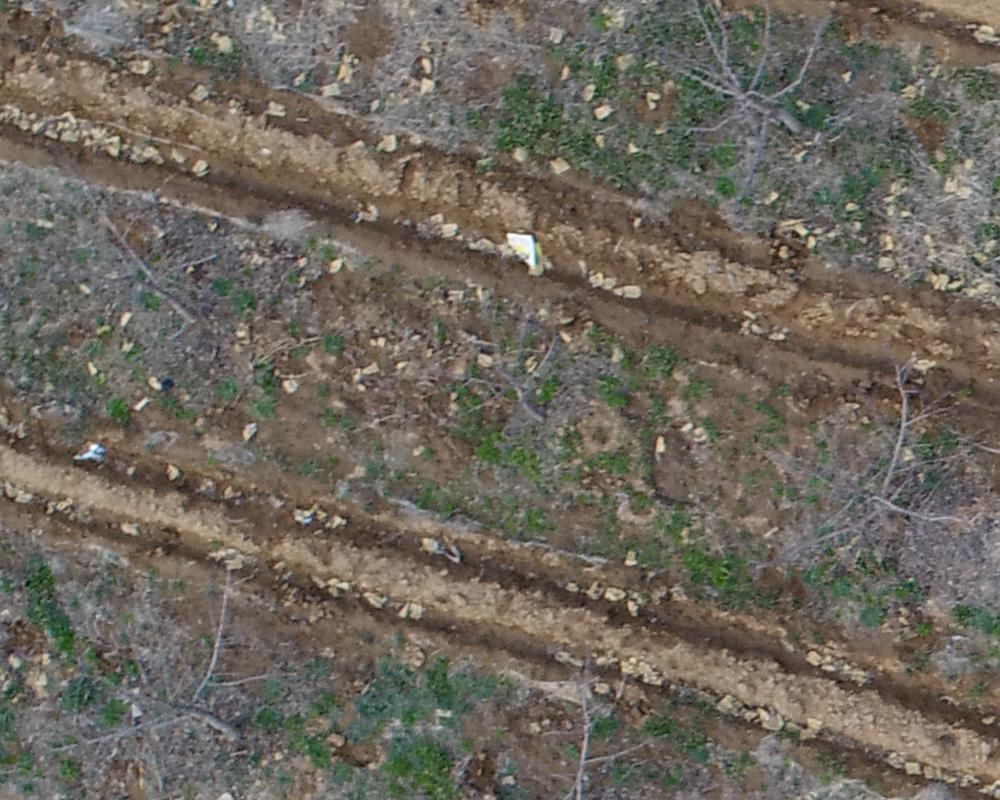apple: (21, 571, 269, 787), (598, 10, 857, 202), (792, 346, 984, 605), (25, 157, 237, 345), (419, 654, 647, 790), (414, 283, 597, 447)
